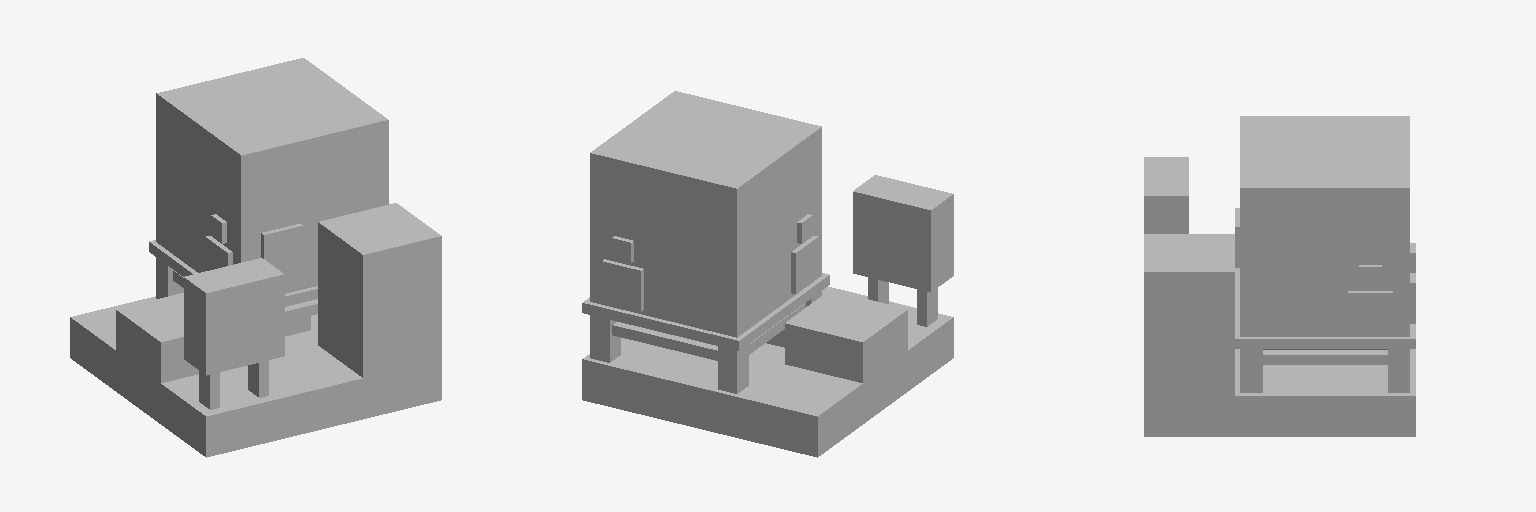
Rendered from fermenter_mirrored.obj.
3 renders of one model, left to right at view 1: azimuth 30°, elevation 25°; view 2: azimuth 150°, elevation 25°; view 3: azimuth 270°, elevation 25°, orthographic.
Parts seen in each view (by area): view 1: base; view 2: base; view 3: base.
Boxes of the visible parts, x1=… form: base: x1=70, y1=58, x2=441, y2=457; base: x1=582, y1=91, x2=953, y2=457; base: x1=1144, y1=116, x2=1415, y2=436.
Size of the model in its own units: 3 by 3 by 3.